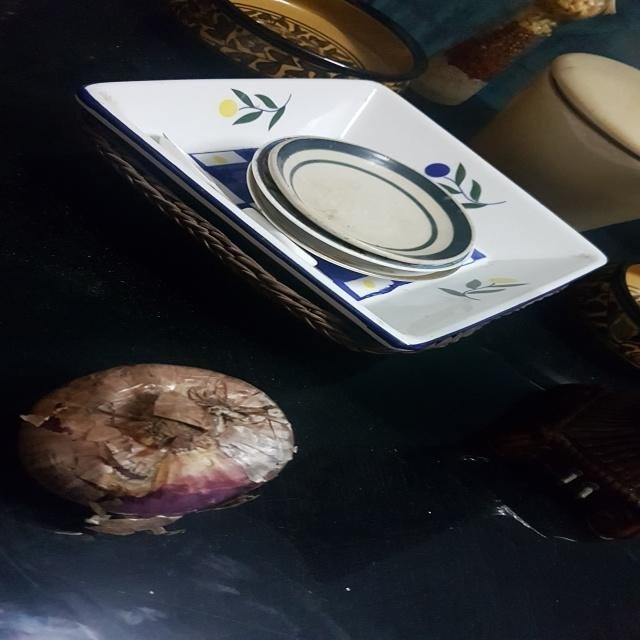onion: (17, 355, 299, 543)
